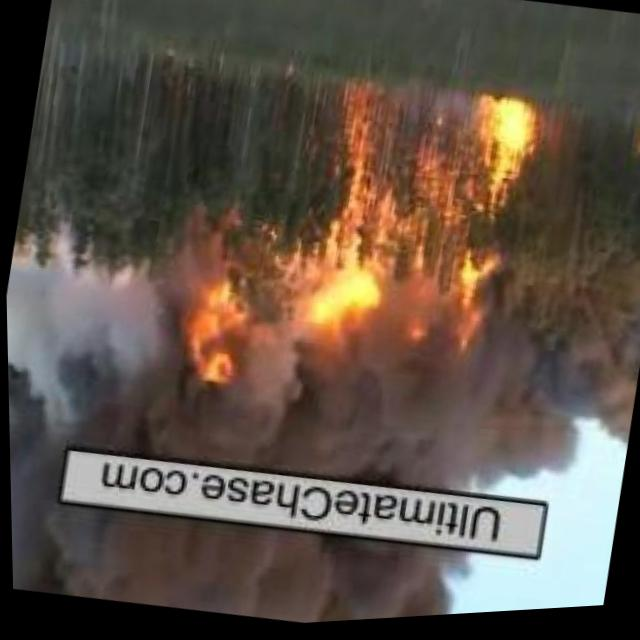Fire: (297, 65, 555, 370), (170, 226, 269, 407)
